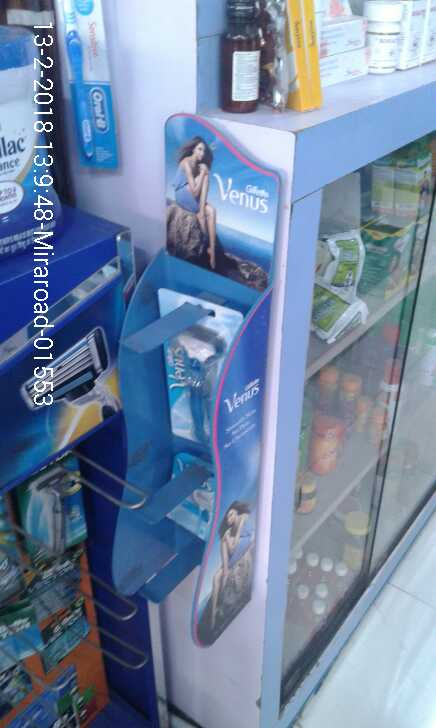venus: (139, 286, 235, 447)
